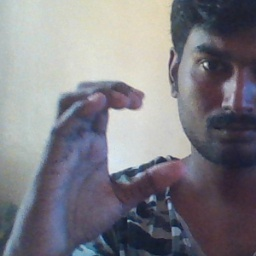C: (56, 73, 189, 208)
